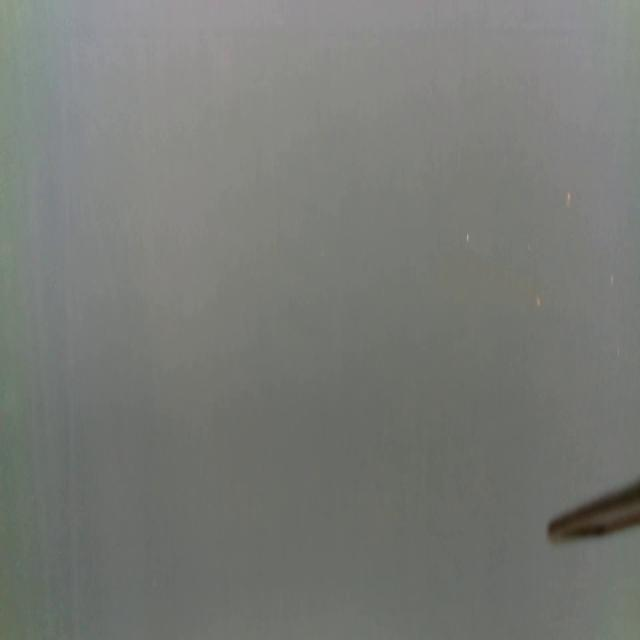hole: (564, 187, 572, 208), (465, 229, 472, 248), (535, 293, 542, 311), (608, 274, 616, 288)
